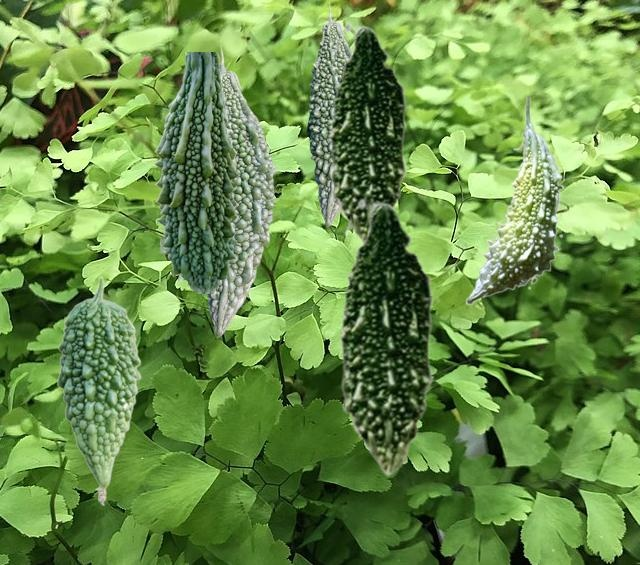ampalaya: (339, 197, 439, 477), (153, 52, 238, 292), (206, 45, 276, 336), (465, 97, 563, 304), (56, 276, 140, 505), (329, 22, 411, 243), (306, 2, 351, 226)
